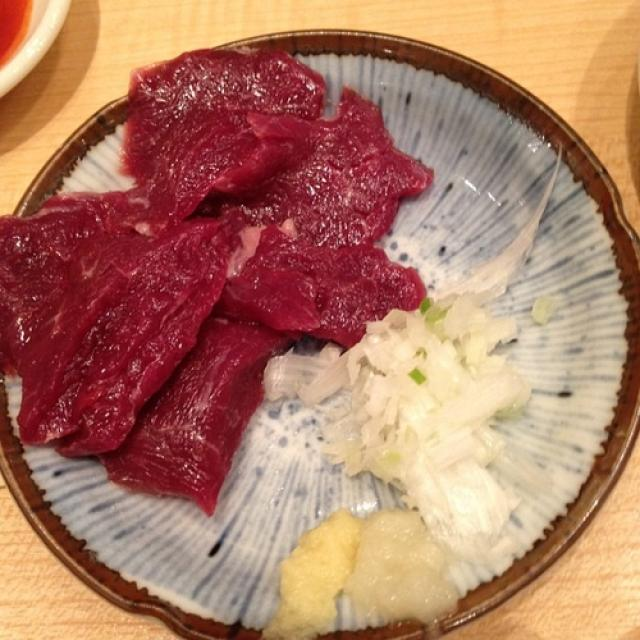刺身生食: (4, 21, 634, 631)
